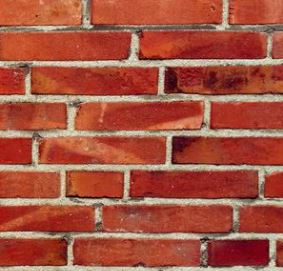brick: (73, 97, 206, 133), (28, 63, 161, 97), (128, 167, 261, 201), (163, 62, 283, 98), (100, 203, 235, 235), (136, 30, 270, 62), (1, 30, 131, 62), (74, 236, 201, 268), (37, 136, 167, 166), (170, 133, 283, 167), (89, 1, 223, 25), (1, 202, 96, 232), (209, 98, 283, 132), (1, 99, 69, 133), (1, 236, 69, 269), (1, 1, 84, 28), (206, 237, 272, 269), (1, 168, 62, 201), (64, 168, 125, 201), (237, 203, 283, 235), (227, 1, 283, 26), (1, 135, 35, 167), (1, 66, 26, 96)
